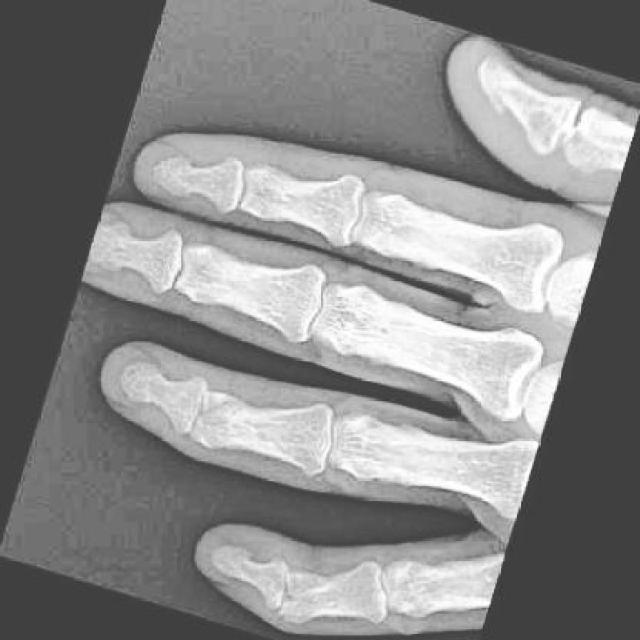Fracture: (169, 379, 248, 459), (266, 563, 326, 626)
